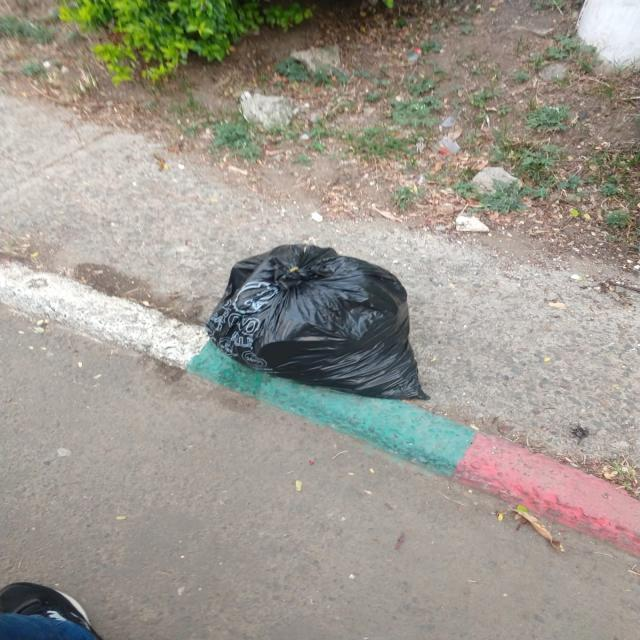Trashbag: (208, 238, 432, 407)
